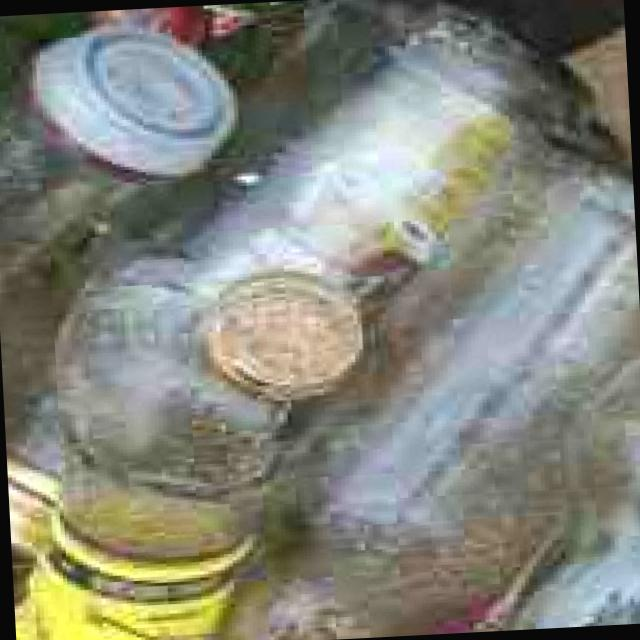chai_thuy_tinh: (0, 0, 640, 640)
kim_loai: (32, 33, 233, 177), (204, 276, 363, 403)
